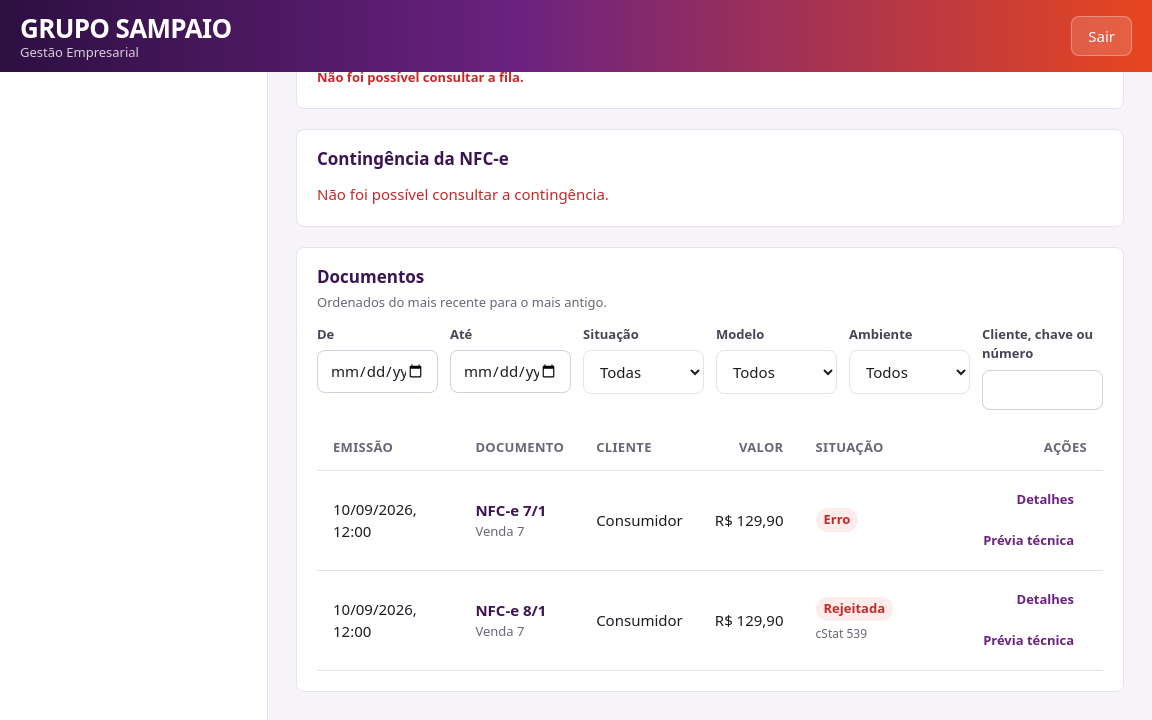
Test case: o detalhe diz quem recusou › recusa da conferência local (sem cStat) NÃO é apresentada como retorno da SEFAZ
The image size is (1152, 720).
(page scrolled)
Click the button "Detalhes" next to "Erro" at (1045, 499), box [1004,482,1087,516]
(page scrolled)
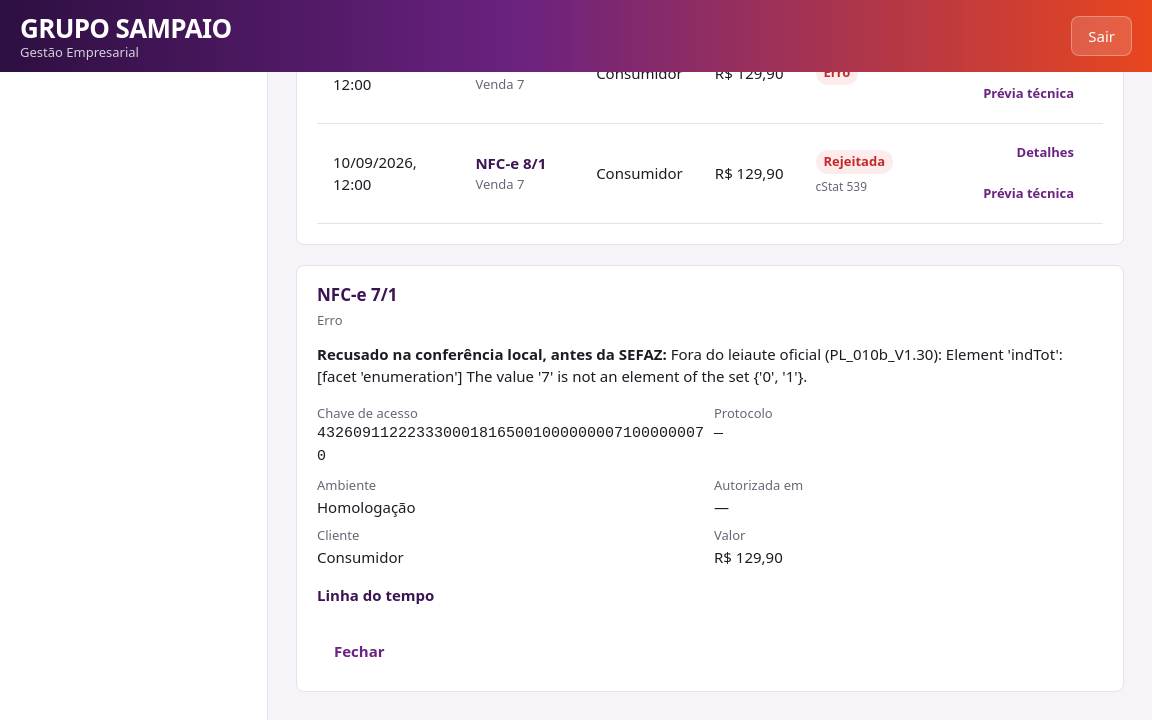
Now the text "Recusado na conferência local, antes da SEFAZ:" is shown, box [317,344,667,364]
Now the text "Fora do leiaute oficial (PL_010b_V1.30)" is shown, box [317,344,1063,386]
